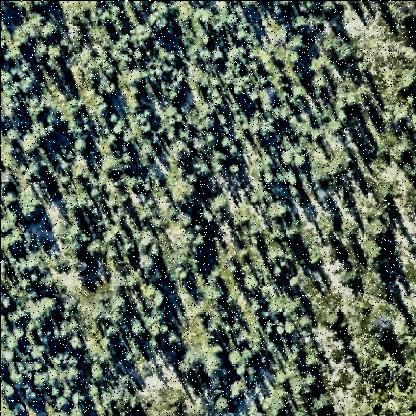tree-top: (159, 223, 199, 261), (166, 176, 202, 208), (362, 216, 394, 248), (30, 298, 61, 328), (199, 349, 227, 381), (146, 7, 174, 38), (328, 39, 356, 69), (165, 141, 193, 169), (17, 199, 45, 225), (17, 131, 43, 157), (393, 5, 416, 34), (265, 201, 290, 225), (387, 144, 413, 167), (224, 379, 248, 403), (369, 324, 393, 347), (60, 194, 83, 218), (87, 359, 110, 383), (286, 33, 310, 55), (38, 19, 62, 41), (137, 253, 159, 276), (310, 74, 332, 97), (397, 71, 416, 97), (223, 352, 245, 374), (303, 370, 325, 392), (5, 2, 39, 16), (30, 368, 49, 393), (312, 397, 336, 416), (320, 2, 346, 19), (127, 319, 147, 341), (242, 275, 262, 296), (69, 137, 90, 157), (290, 149, 307, 173), (68, 390, 88, 410), (71, 257, 92, 276), (64, 97, 82, 119), (259, 117, 277, 139), (368, 243, 386, 264), (163, 328, 180, 350), (305, 353, 325, 371), (119, 148, 137, 168), (247, 117, 263, 139), (65, 337, 84, 355), (65, 239, 83, 258), (87, 241, 105, 259), (2, 192, 19, 211), (109, 120, 126, 138), (12, 325, 26, 346), (226, 162, 244, 178), (32, 43, 47, 62), (43, 58, 59, 75), (48, 41, 62, 59), (211, 47, 223, 64), (120, 130, 133, 144)
